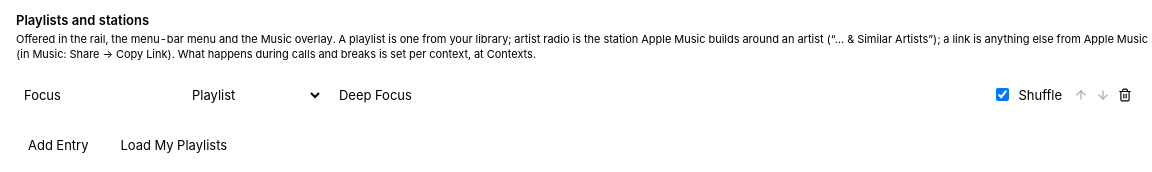
Scenario: MusicPage › playlists › shows the error of a failed load inline and keeps the text field
This screenshot has width=1152, height=172.
Click the button "Load My Playlists".
click(174, 145)  # box [108,134,239,156]
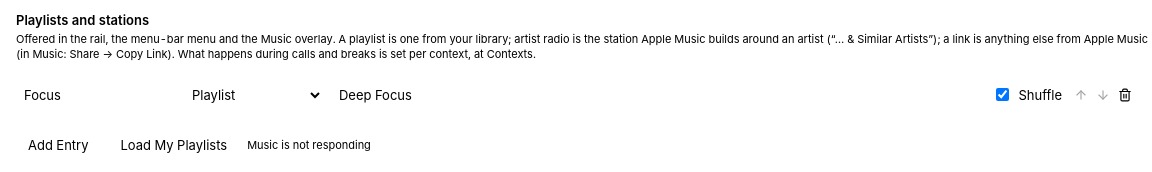
Check: the field named "Playlist" is shown, box [331,84,984,106]
Check: the message reads "Music is not responding", box [247,138,371,152]
